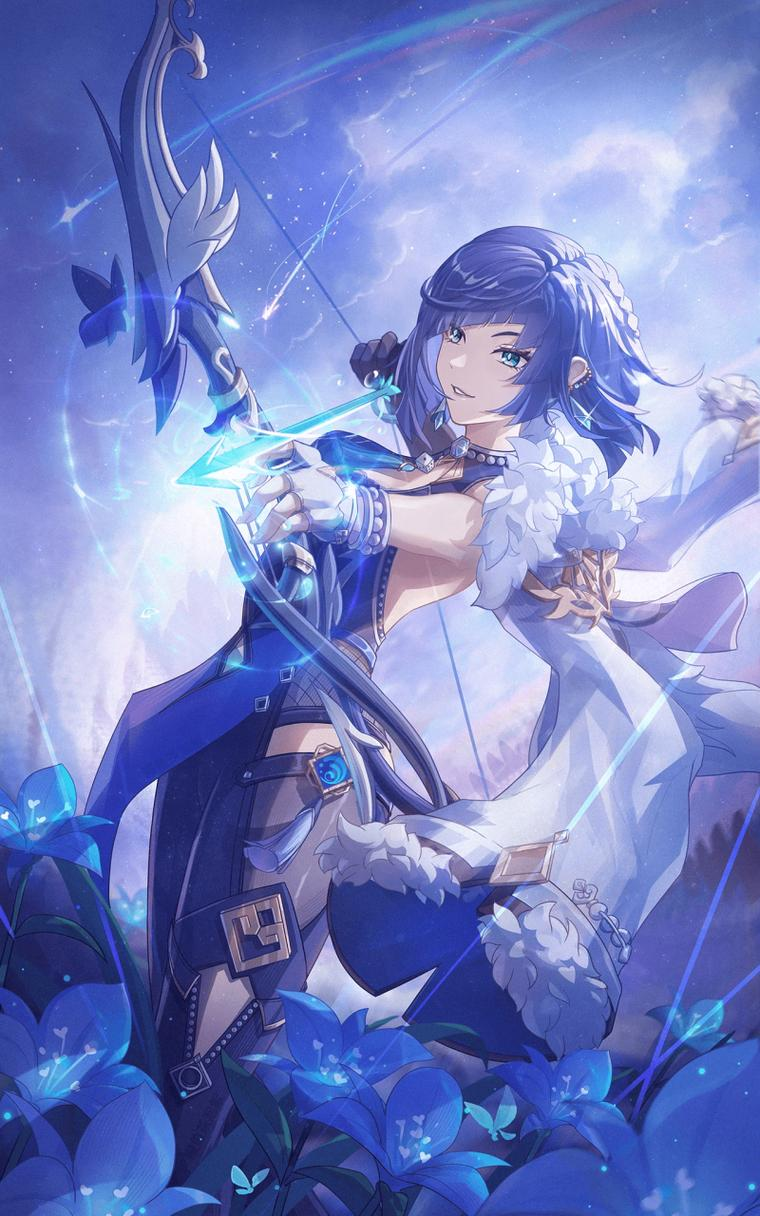夜兰: (140, 224, 645, 1168)
